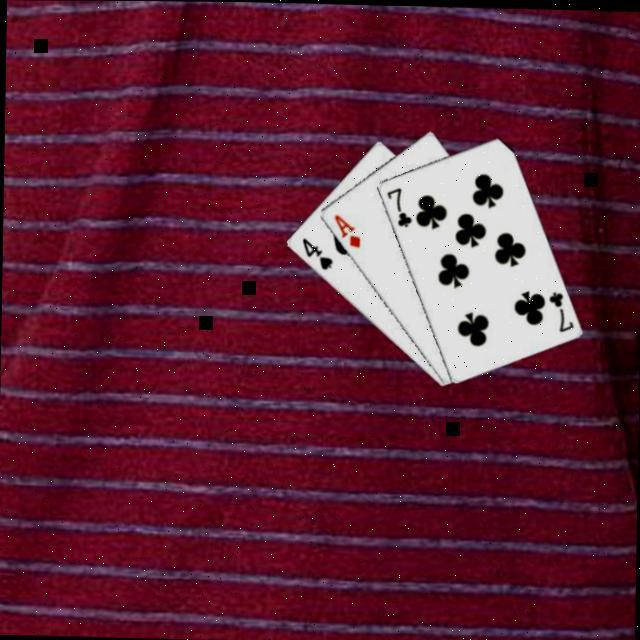4S: (295, 232, 333, 270)
7C: (542, 284, 575, 332), (380, 181, 413, 228)
AD: (327, 208, 361, 248)
